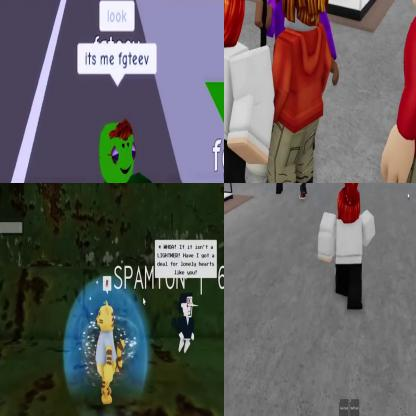Roblox-Avatar: (265, 1, 333, 183), (225, 1, 276, 183), (318, 184, 377, 312), (376, 1, 416, 183), (78, 118, 159, 183), (97, 301, 126, 405)
